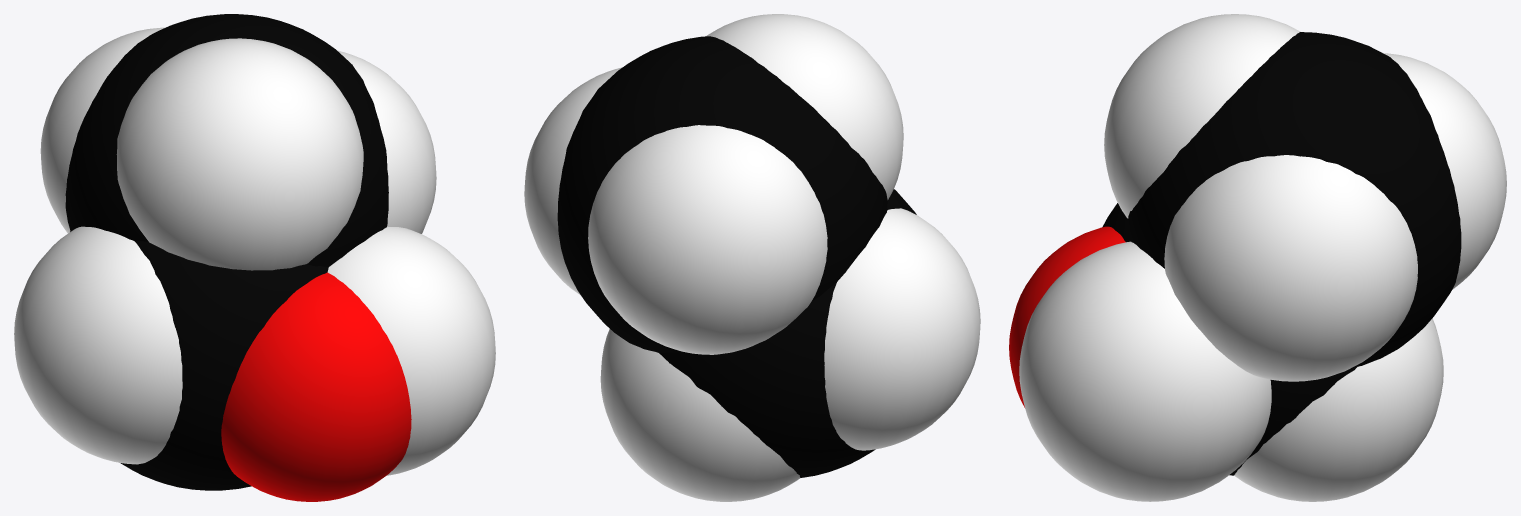
The model's file is etanol.obj.
3 views of the same model, side by side, from view 1: azimuth 30°, elevation 25°; view 2: azimuth 150°, elevation 25°; view 3: azimuth 270°, elevation 25° (orthographic). The views are drawn at different scales.
Visible parts, largest first — view 1: Hydrogen_ball, Carbon_ball, Oxygen_ball; view 2: Hydrogen_ball, Carbon_ball; view 3: Hydrogen_ball, Carbon_ball, Oxygen_ball.
Part boxes in pixels (<box>): Hydrogen_ball: <box>14,27,495,475</box>; Carbon_ball: <box>65,14,388,490</box>; Oxygen_ball: <box>221,272,411,501</box>; Hydrogen_ball: <box>524,14,980,501</box>; Carbon_ball: <box>557,36,916,477</box>; Hydrogen_ball: <box>1019,14,1506,501</box>; Carbon_ball: <box>1102,32,1461,475</box>; Oxygen_ball: <box>1009,226,1125,407</box>.
Size of the model in its own units: 2.53 by 2.64 by 2.61.
